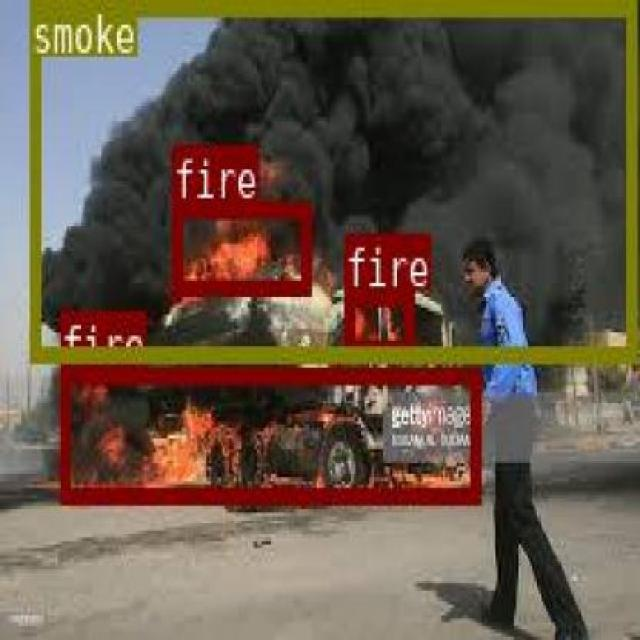Fire: (58, 368, 480, 502), (169, 200, 308, 292), (344, 286, 412, 354)
Smoke: (30, 0, 633, 357)
